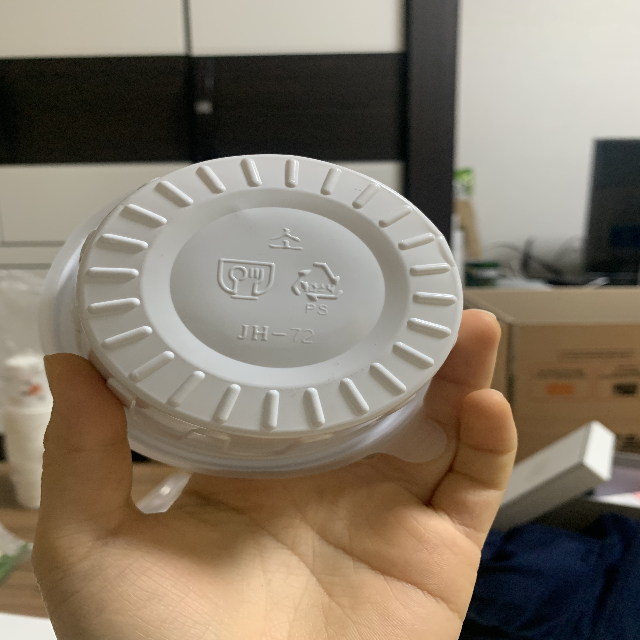ps: (289, 257, 346, 317)
